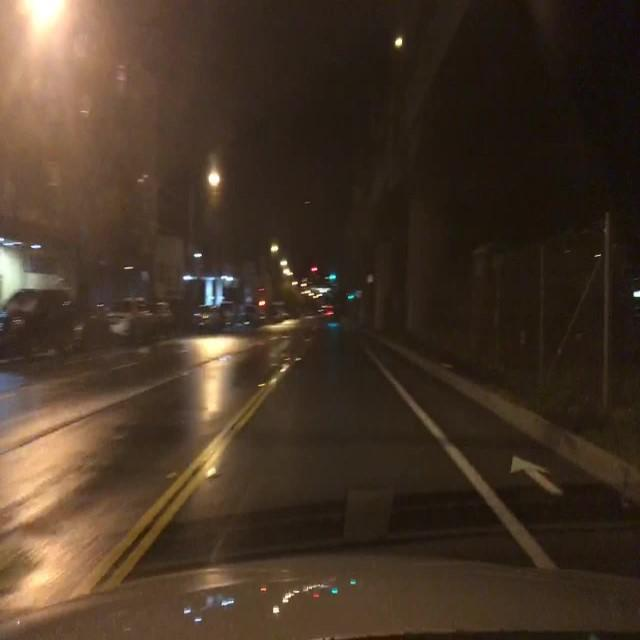normal: (2, 286, 98, 360), (104, 296, 174, 345)
